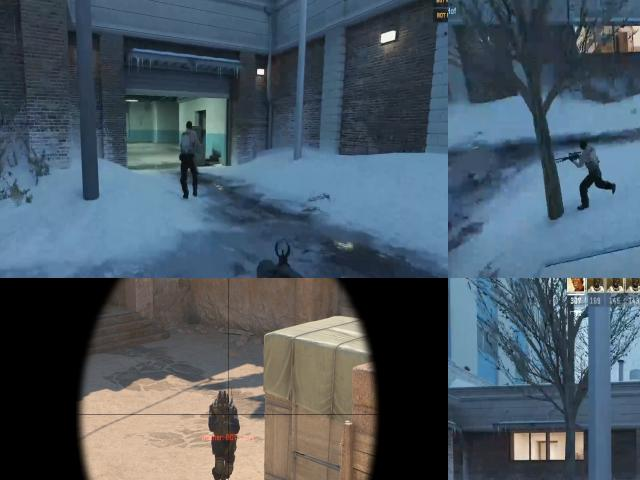CT: (208, 389, 238, 480)
CT-Head: (217, 390, 228, 412)
T: (571, 136, 604, 182), (179, 124, 199, 160)
T-Head: (578, 138, 592, 154), (184, 118, 195, 136)
